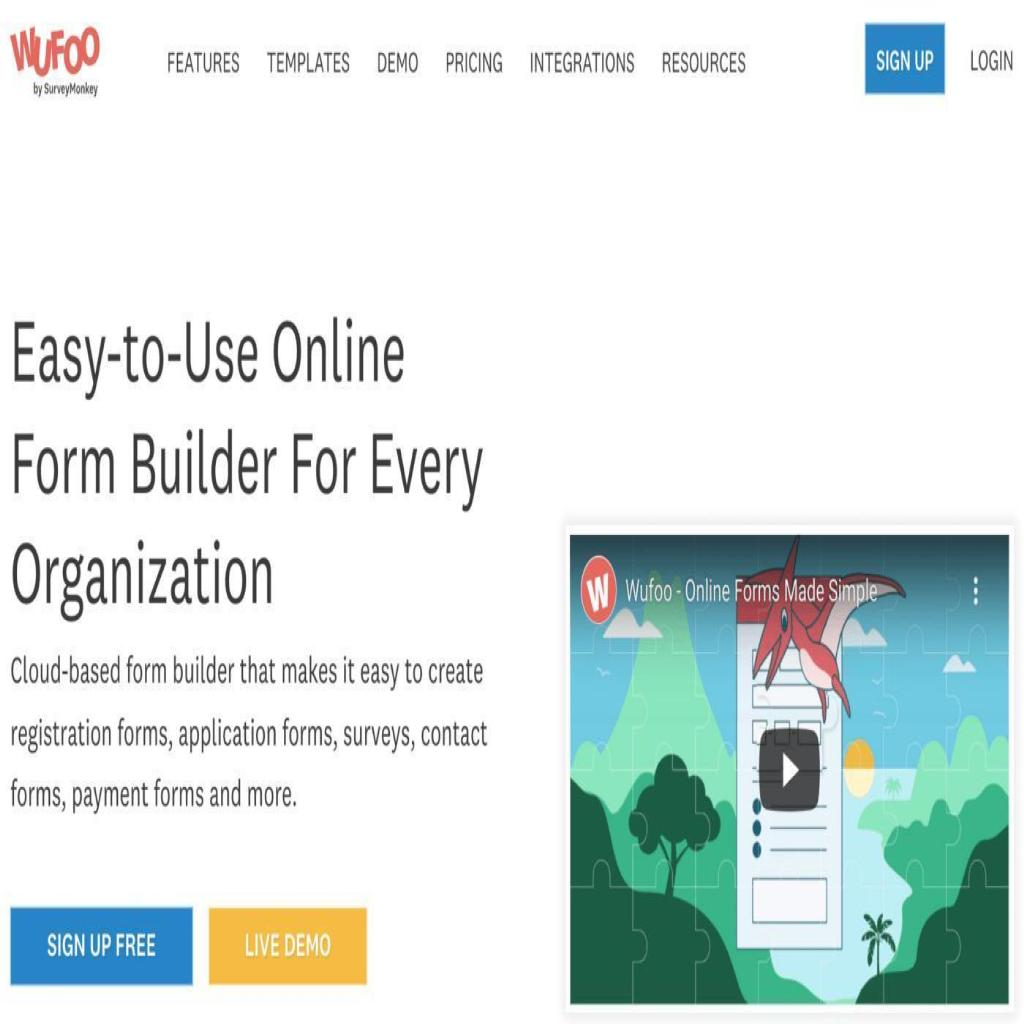button: (10, 906, 192, 985), (208, 908, 370, 988), (863, 22, 947, 94)
label: (163, 40, 250, 84), (529, 43, 633, 77), (268, 42, 352, 84), (659, 46, 749, 81), (448, 43, 502, 88), (962, 42, 1018, 78), (371, 48, 428, 80)
